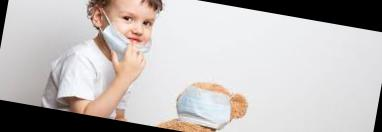mask_weared_incorrect: (107, 4, 159, 61)
